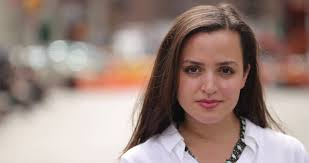white_female: (176, 18, 235, 128)
